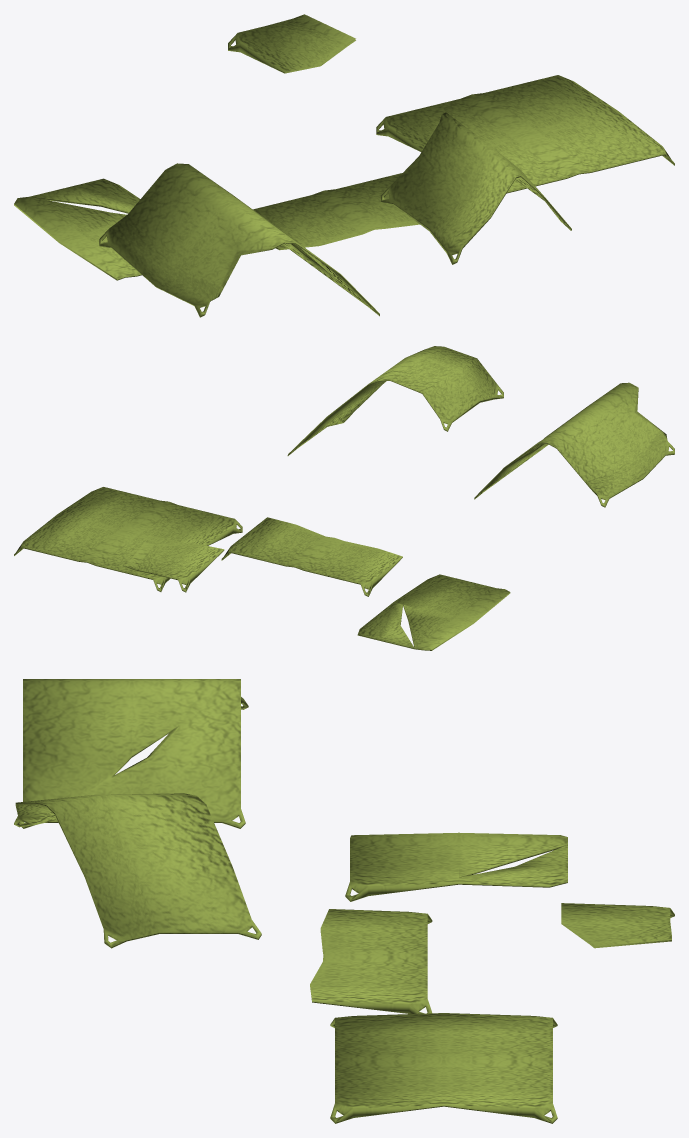
The model's file is DamagedTarps_Green.obj.
3 views of the same model, one above another, from view 1: azimuth 30°, elevation 25°; view 2: azimuth 150°, elevation 25°; view 3: azimuth 270°, elevation 25° (orthographic). The views are drawn at different scales.
Parts seen in each view (by area): view 1: Plane.012_Material.187, Plane.017_Material.187, Plane.011_Material.187, Plane.015_Material.187, Plane.014_Material.187, Plane.013_Material.187; view 2: Plane.012_Material.187, Plane.017_Material.187, Plane.011_Material.187, Plane.015_Material.187, Plane.014_Material.187, Plane.013_Material.187; view 3: Plane.017_Material.187, Plane.011_Material.187, Plane.012_Material.187, Plane.015_Material.187, Plane.014_Material.187, Plane.013_Material.187.
Boxes of the visible parts, <box> form: Plane.012_Material.187: <box>376,75,674,193</box>; Plane.017_Material.187: <box>99,163,379,317</box>; Plane.011_Material.187: <box>381,112,571,264</box>; Plane.015_Material.187: <box>14,178,141,280</box>; Plane.014_Material.187: <box>253,173,419,250</box>; Plane.013_Material.187: <box>228,14,355,73</box>; Plane.012_Material.187: <box>14,487,242,591</box>; Plane.017_Material.187: <box>474,382,674,507</box>; Plane.011_Material.187: <box>287,346,503,455</box>; Plane.015_Material.187: <box>357,574,510,650</box>; Plane.014_Material.187: <box>221,517,402,596</box>; Plane.013_Material.187: <box>126,542,224,592</box>; Plane.017_Material.187: <box>19,679,248,828</box>; Plane.011_Material.187: <box>14,793,261,948</box>; Plane.012_Material.187: <box>330,1013,557,1123</box>; Plane.015_Material.187: <box>345,832,567,901</box>; Plane.014_Material.187: <box>310,909,432,1013</box>; Plane.013_Material.187: <box>561,903,674,948</box>.
Size of the model in its own units: 6.69 by 1.81 by 6.06.
